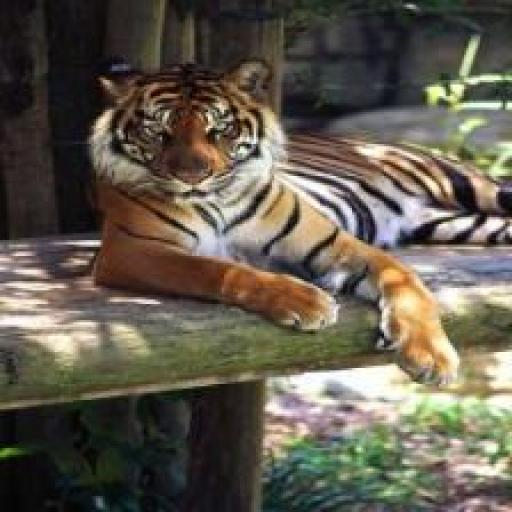Tiger: (77, 43, 512, 402)
